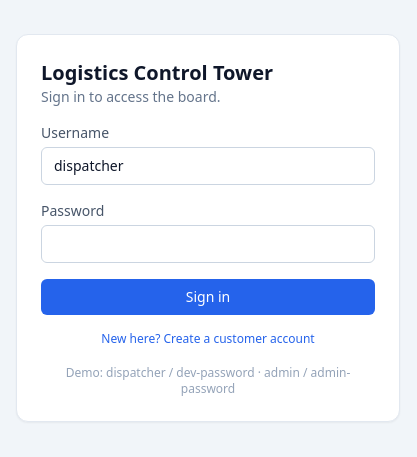
LoginScreen › surfaces an error when credentials are rejected
This screenshot has width=417, height=457.
Type "wrong" into the password field labelled "Password". click: (208, 244)
box: [41, 225, 375, 263]
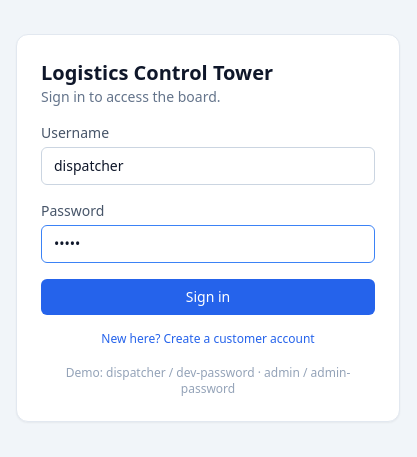
Click the button "Sign in". click: (208, 297)
box: [41, 279, 375, 315]
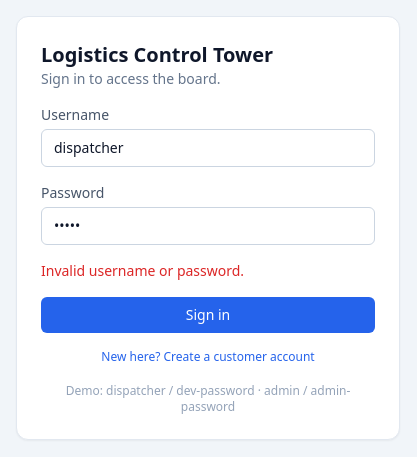
Expected: the message shows "Invalid", [41, 261, 244, 280]
